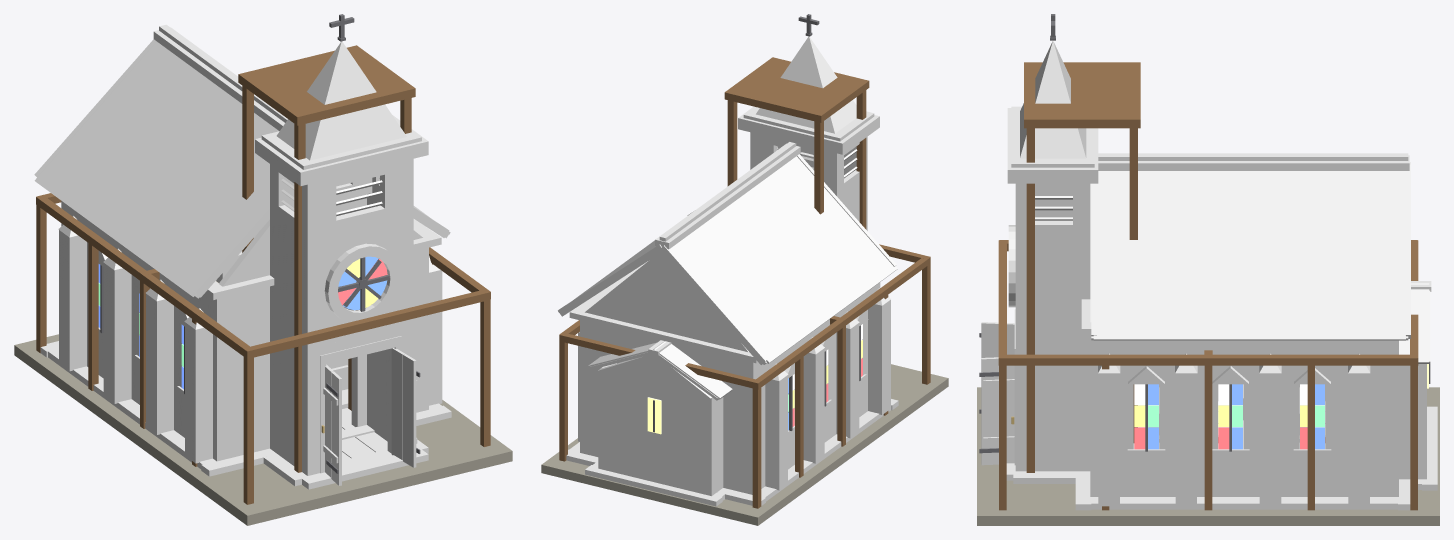
File: church.glb
3 views of the same model, side by side, from view 1: azimuth 30°, elevation 25°; view 2: azimuth 150°, elevation 25°; view 3: azimuth 270°, elevation 25° (orthographic). The views are drawn at different scales.
Visible parts, largest first — view 1: Church_Site_Foundation_foundation, PRP_BLD_church_Tower_Side_L.001, PRP_BLD_church_Wall_Front_L.001, Church_Tower_Frame_Crown, PRP_BLD_church_Spire.001, PRP_BLD_church_Roof_Course_-1_1.001, PRP_BLD_church_Roof_Course_-1_3.001, PRP_BLD_church_Roof_Course_-1_0.001, PRP_BLD_church_Roof_Course_-1_4.001, PRP_BLD_church_Roof_Course_-1_2.001, PRP_BLD_church_Buttress_L_2.001, PRP_BLD_church_Buttress_L_1.001 (+46 smaller); view 2: PRP_BLD_church_Chancel_Wall_B.001, Church_Site_Foundation_foundation, PRP_BLD_church_Gable_Back.001, Church_Tower_Frame_Crown, PRP_BLD_church_Roof_Course_-1_1.001, PRP_BLD_church_Wall_Back_L.001, PRP_BLD_church_Roof_Course_-1_3.001, PRP_BLD_church_Roof_Course_-1_0.001, PRP_BLD_church_Roof_Course_-1_2.001, PRP_BLD_church_Roof_Course_-1_4.001, PRP_BLD_church_Roof_Course_-1_6.001, PRP_BLD_church_Roof_Course_-1_5.001 (+37 smaller); view 3: PRP_BLD_church_Tower_Side_R.001, Church_Site_Foundation_foundation, PRP_BLD_church_Roof_Course_1_1.001, PRP_BLD_church_Roof_Course_1_3.001, PRP_BLD_church_Roof_Course_1_5.001, PRP_BLD_church_Roof_Course_1_0.001, PRP_BLD_church_Wall_R_Pier_3.001, PRP_BLD_church_Roof_Course_1_2.001, Church_Tower_Frame_Crown, PRP_BLD_church_Roof_Course_1_4.001, PRP_BLD_church_Roof_Course_1_6.001, PRP_BLD_church_Wall_R_Pier_2.001 (+42 smaller).
Boxes of the visible parts, x1,y1,x2,y2 form: Church_Site_Foundation_foundation: [14, 334, 512, 525]; PRP_BLD_church_Tower_Side_L.001: [270, 213, 316, 475]; PRP_BLD_church_Wall_Front_L.001: [217, 286, 269, 461]; Church_Tower_Frame_Crown: [238, 45, 415, 125]; PRP_BLD_church_Spire.001: [276, 41, 406, 160]; PRP_BLD_church_Roof_Course_-1_1.001: [53, 137, 227, 273]; PRP_BLD_church_Roof_Course_-1_3.001: [90, 97, 263, 233]; PRP_BLD_church_Roof_Course_-1_0.001: [34, 160, 206, 296]; PRP_BLD_church_Roof_Course_-1_4.001: [109, 76, 269, 209]; PRP_BLD_church_Roof_Course_-1_2.001: [73, 117, 245, 249]; PRP_BLD_church_Buttress_L_2.001: [103, 263, 131, 403]; PRP_BLD_church_Buttress_L_1.001: [146, 294, 173, 434]; PRP_BLD_church_Chancel_Wall_B.001: [598, 367, 715, 495]; Church_Site_Foundation_foundation: [541, 364, 948, 525]; PRP_BLD_church_Gable_Back.001: [585, 252, 748, 352]; Church_Tower_Frame_Crown: [724, 57, 869, 122]; PRP_BLD_church_Roof_Course_-1_1.001: [739, 234, 881, 345]; PRP_BLD_church_Wall_Back_L.001: [706, 351, 758, 494]; PRP_BLD_church_Roof_Course_-1_3.001: [710, 201, 852, 311]; PRP_BLD_church_Roof_Course_-1_0.001: [756, 253, 897, 363]; PRP_BLD_church_Roof_Course_-1_2.001: [724, 219, 864, 327]; PRP_BLD_church_Roof_Course_-1_4.001: [695, 187, 835, 293]; PRP_BLD_church_Roof_Course_-1_6.001: [670, 156, 809, 262]; PRP_BLD_church_Roof_Course_-1_5.001: [683, 171, 814, 276]; PRP_BLD_church_Tower_Side_R.001: [1015, 237, 1090, 471]; Church_Site_Foundation_foundation: [977, 387, 1439, 525]; PRP_BLD_church_Roof_Course_1_1.001: [1097, 286, 1405, 314]; PRP_BLD_church_Roof_Course_1_3.001: [1097, 238, 1405, 266]; PRP_BLD_church_Roof_Course_1_5.001: [1097, 189, 1405, 217]; PRP_BLD_church_Roof_Course_1_0.001: [1093, 315, 1405, 340]; PRP_BLD_church_Wall_R_Pier_3.001: [1325, 340, 1398, 496]; PRP_BLD_church_Roof_Course_1_2.001: [1097, 262, 1405, 289]; Church_Tower_Frame_Crown: [1024, 62, 1140, 128]; PRP_BLD_church_Roof_Course_1_4.001: [1097, 217, 1405, 237]; PRP_BLD_church_Roof_Course_1_6.001: [1097, 171, 1405, 189]; PRP_BLD_church_Wall_R_Pier_2.001: [1243, 340, 1299, 496].
Bounding box in the file's own units: 6.5 × 10.55 × 9.9.
